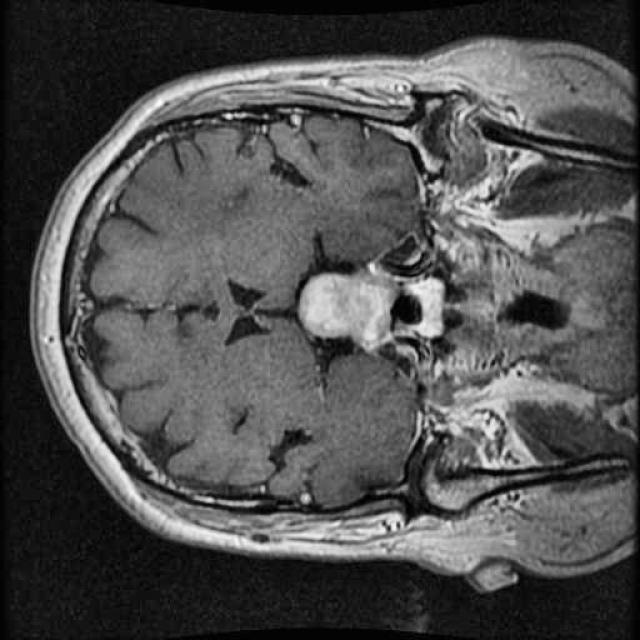Tumor: (290, 262, 458, 352)
